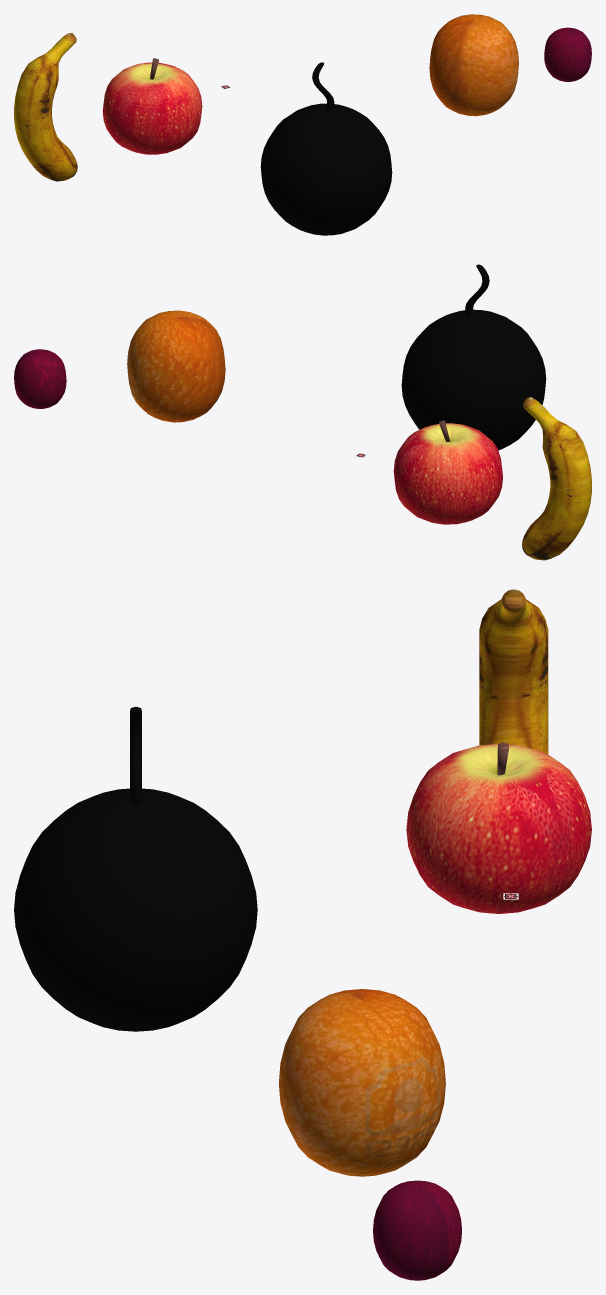
File: fruitsConf.fbx
3 renders of one model, top to bottom at view 1: azimuth 30°, elevation 25°; view 2: azimuth 150°, elevation 25°; view 3: azimuth 270°, elevation 25°, orthographic. The views are drawn at different scales.
Parts seen in each view (by area): view 1: polySurface1, polySurface2, pSphere3, pCylinder6, pSphere4; view 2: polySurface1, polySurface2, pSphere3, pCylinder6, pSphere4; view 3: polySurface1, pSphere3, polySurface2, pCylinder6, pSphere4.
Boxes of the visible parts, x1,y1,x2,y2 form: polySurface1: [260, 62, 392, 235]; polySurface2: [102, 58, 202, 154]; pSphere3: [429, 14, 518, 116]; pCylinder6: [14, 33, 77, 181]; pSphere4: [544, 27, 591, 81]; polySurface1: [401, 264, 546, 450]; polySurface2: [393, 420, 502, 524]; pSphere3: [127, 310, 225, 422]; pCylinder6: [522, 397, 591, 560]; pSphere4: [14, 349, 66, 408]; polySurface1: [14, 706, 257, 1031]; pSphere3: [279, 989, 445, 1176]; polySurface2: [406, 742, 591, 913]; pCylinder6: [479, 589, 548, 754]; pSphere4: [373, 1180, 461, 1280].
Size of the model in its own units: 75.35 by 22.05 by 37.47.
